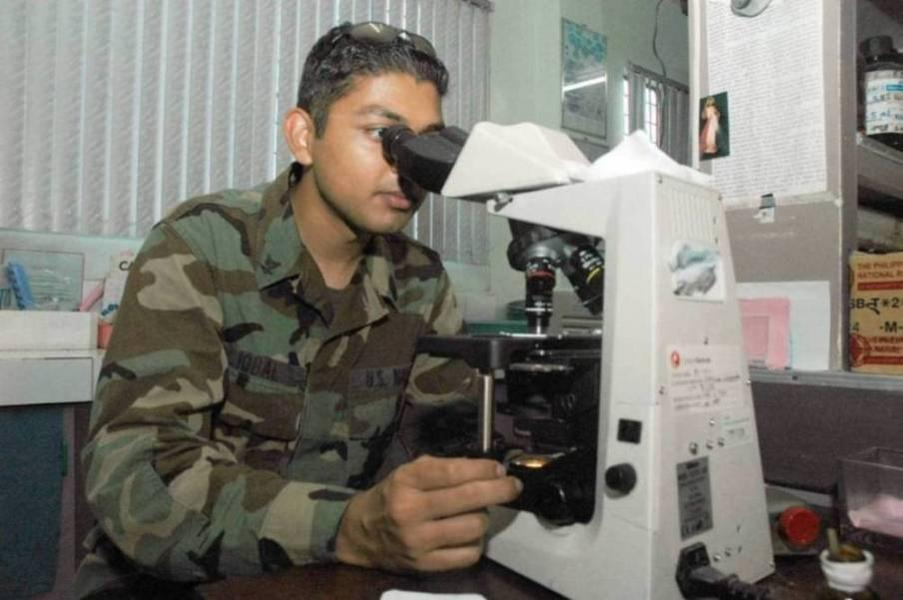person: (70, 24, 521, 596)
